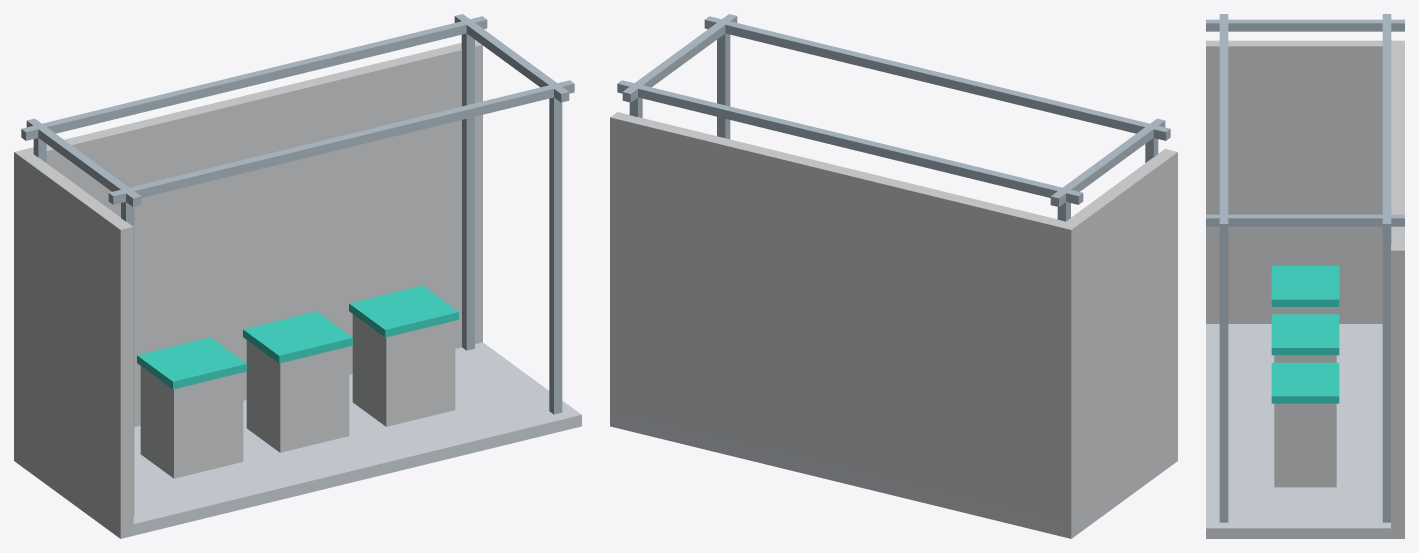
3 views of the same model, side by side, from view 1: azimuth 30°, elevation 25°; view 2: azimuth 150°, elevation 25°; view 3: azimuth 270°, elevation 25° (orthographic). The views are drawn at different scales.
Parts seen in each view (by area): view 1: Exhibition Booth Concept; view 2: Exhibition Booth Concept; view 3: Exhibition Booth Concept.
Boxes of the visible parts, <box> form: Exhibition Booth Concept: <box>14,14,581,538</box>; Exhibition Booth Concept: <box>610,14,1177,538</box>; Exhibition Booth Concept: <box>1206,14,1404,538</box>.
Size of the model in its own units: 5 by 3.49 by 2.
